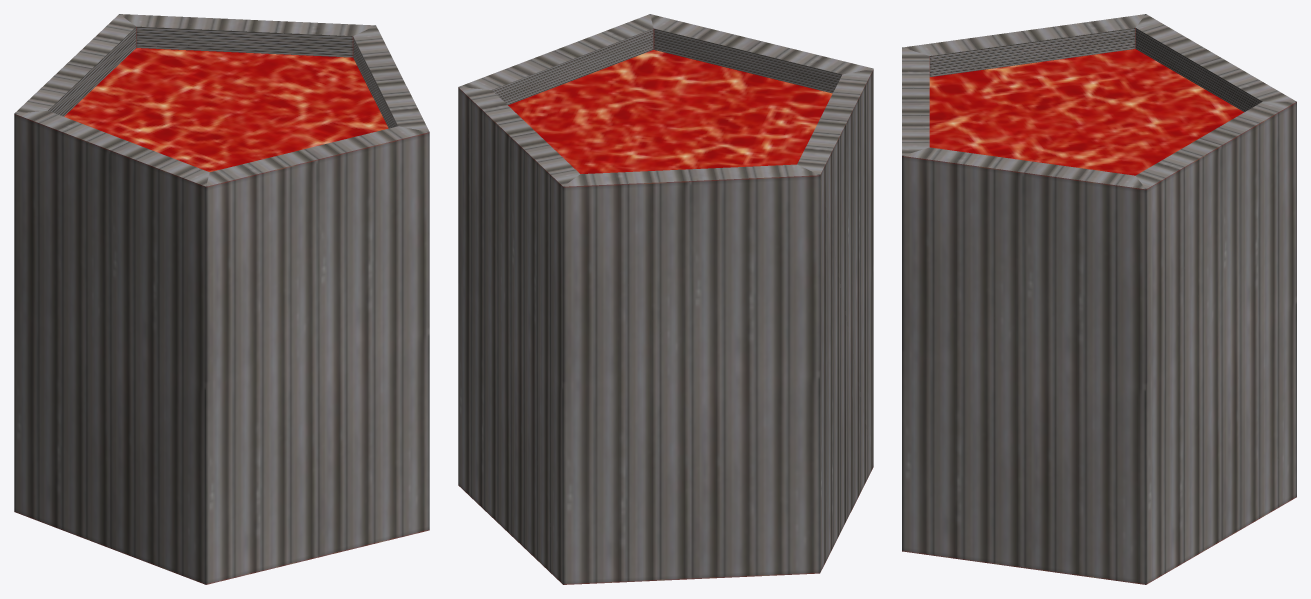
File: barrel.obj
3 renders of one model, left to right at view 1: azimuth 30°, elevation 25°; view 2: azimuth 150°, elevation 25°; view 3: azimuth 270°, elevation 25°, orthographic.
Visible parts, largest first — view 1: Cylinder; view 2: Cylinder; view 3: Cylinder.
Boxes of the visible parts, <box> form: Cylinder: <box>14,14,429,584</box>; Cylinder: <box>458,14,873,584</box>; Cylinder: <box>902,14,1296,584</box>.
Bounding box in the file's own units: 1.9 × 2 × 1.81.
